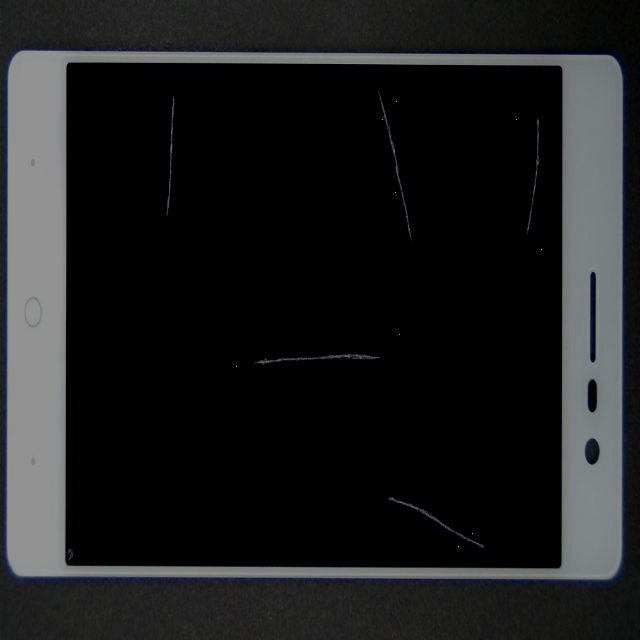scratch: (198, 219, 571, 640), (257, 137, 640, 411), (281, 153, 506, 491), (68, 100, 245, 343), (216, 66, 594, 139)
